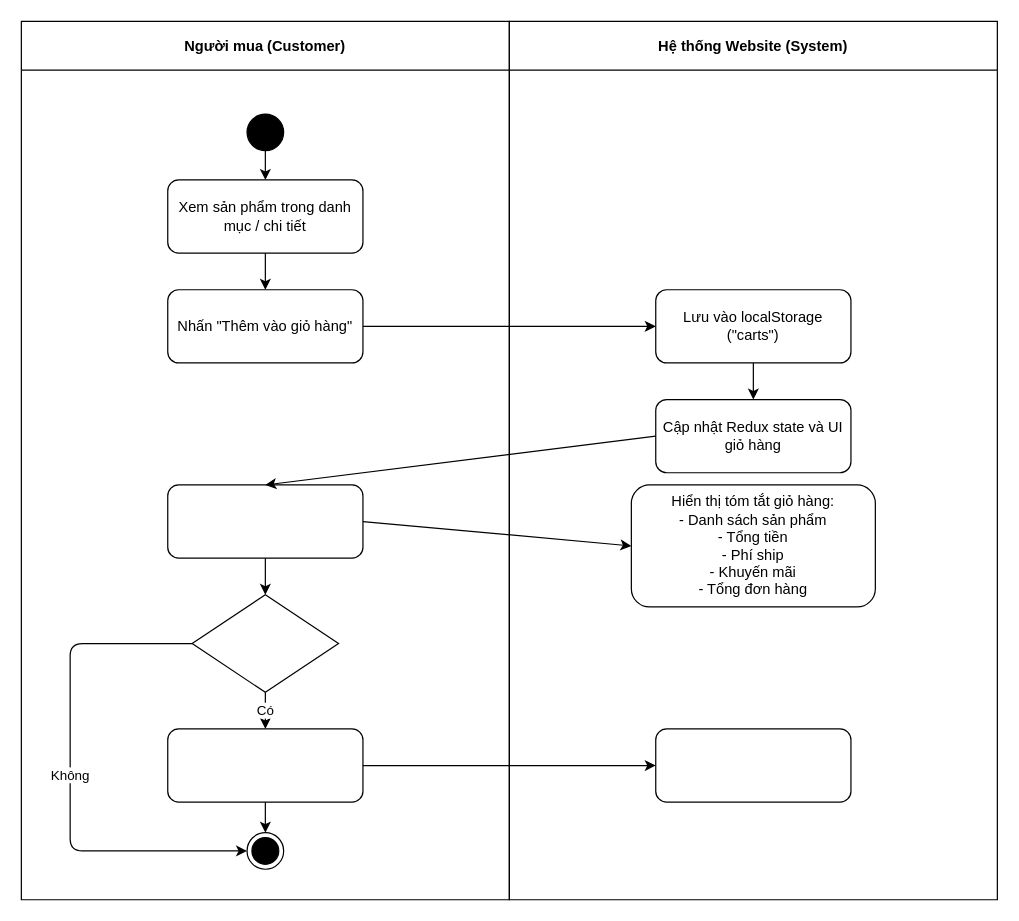
Image size: 1019x921. Some labels were removed from this diagram. The centre of each missing label's shape, as x and y in pixels:
Cập nhật lại tổng tiền (Sum_Price function): the point at 753,765
Xem giỏ hàng: the point at 265,521
Xóa sản phẩm khỏi giỏ: the point at 265,765
Xóa sản phẩm?: the point at 265,643
